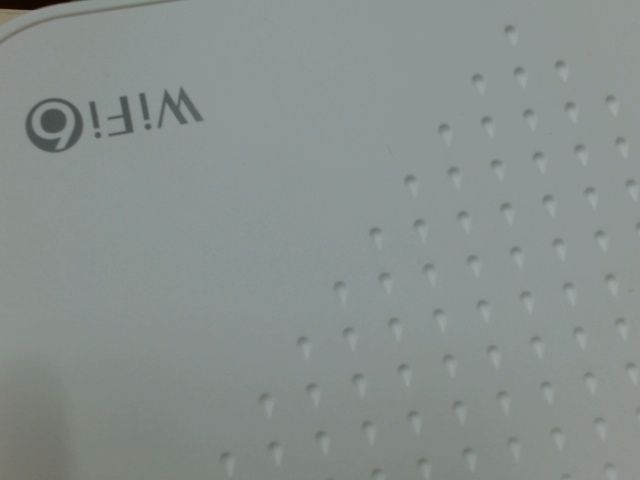AK_ZTEWIFI6: (19, 85, 210, 157)
